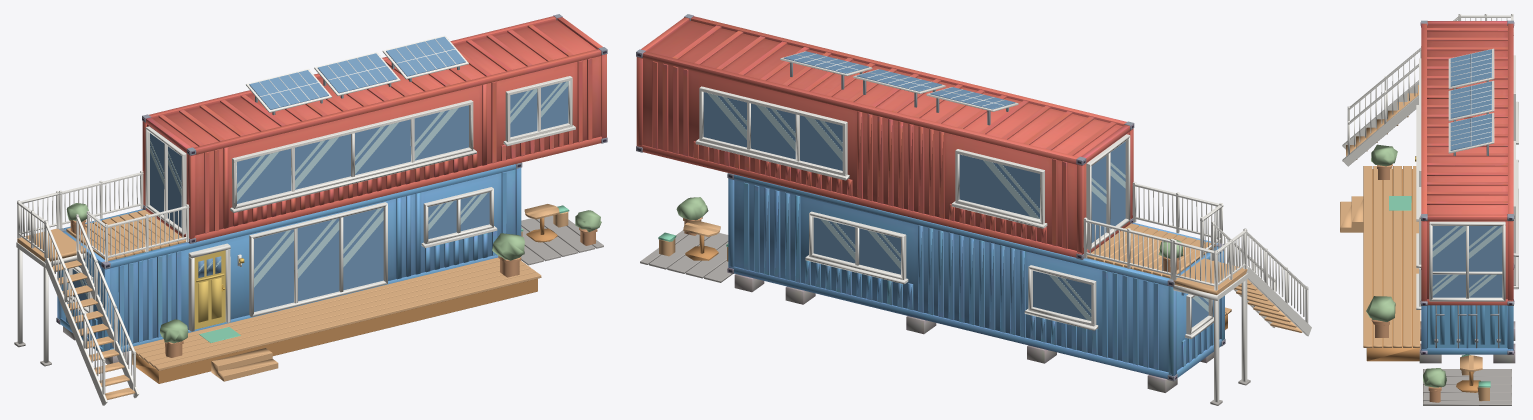
Rendered from container-home.glb.
3 views of the same model, side by side, from view 1: azimuth 30°, elevation 25°; view 2: azimuth 150°, elevation 25°; view 3: azimuth 270°, elevation 25° (orthographic). The views are drawn at different scales.
Visible parts, largest first — view 1: container-home_details, container-home_body; view 2: container-home_body, container-home_details; view 3: container-home_details, container-home_body.
Boxes of the visible parts, left/top/right/bottom form: container-home_details: left=14, top=35, right=603, bottom=405; container-home_body: left=56, top=14, right=607, bottom=364; container-home_body: left=636, top=14, right=1225, bottom=392; container-home_details: left=640, top=51, right=1311, bottom=405; container-home_details: left=1340, top=14, right=1518, bottom=405; container-home_body: left=1419, top=20, right=1515, bottom=363.
Size of the model in its own units: 15.99 by 6.01 by 4.7.
2 materials, 2 textured.
